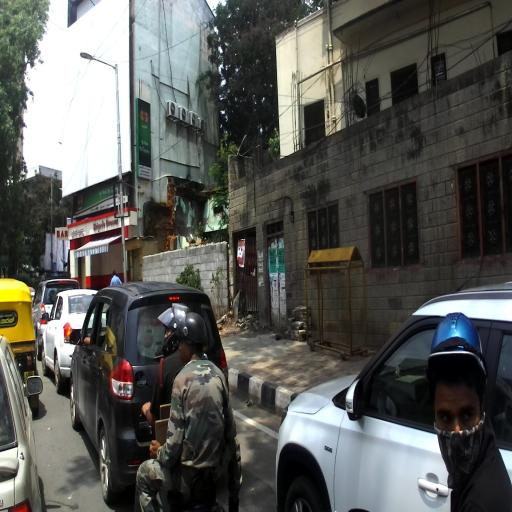street_light_0: (80, 52, 118, 72)
